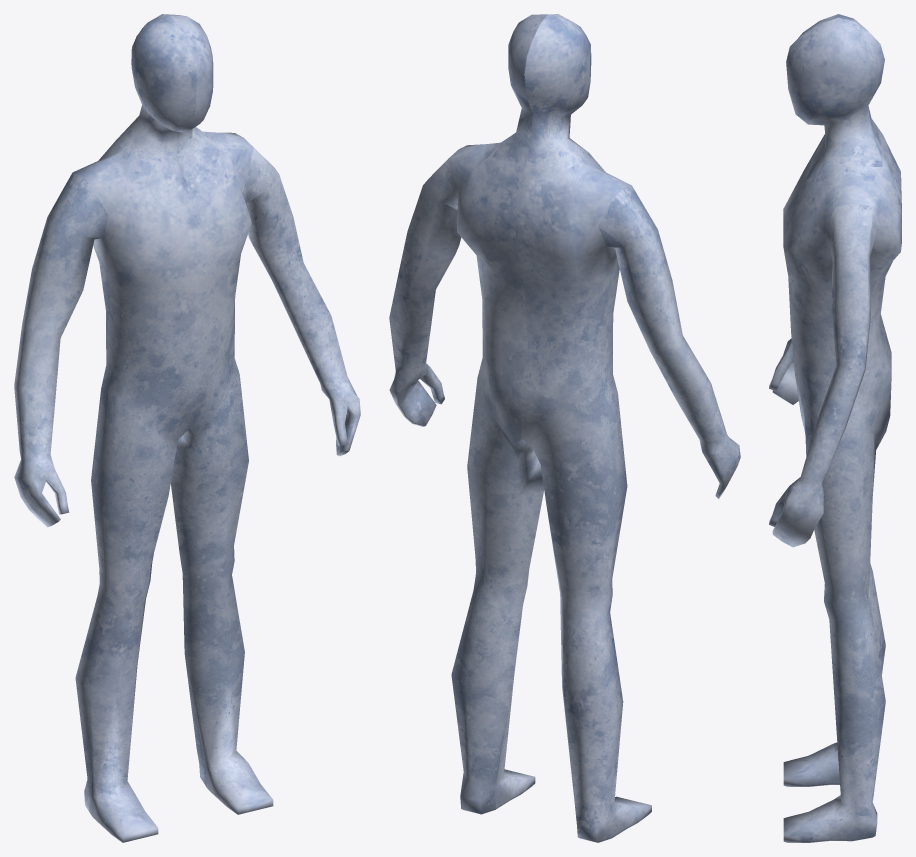
File: avatar3.obj
The picture shows the model from 3 angles, left to right: view 1: azimuth 30°, elevation 25°; view 2: azimuth 150°, elevation 25°; view 3: azimuth 270°, elevation 25°; orthographic projection.
Visible parts, largest first — view 1: Cube; view 2: Cube; view 3: Cube.
Part boxes in pixels (x1=…): Cube: x1=14, y1=14, x2=360, y2=842; Cube: x1=389, y1=14, x2=740, y2=842; Cube: x1=769, y1=14, x2=901, y2=842.
Bounding box in the file's own units: 7.19 × 16.29 × 2.49.
